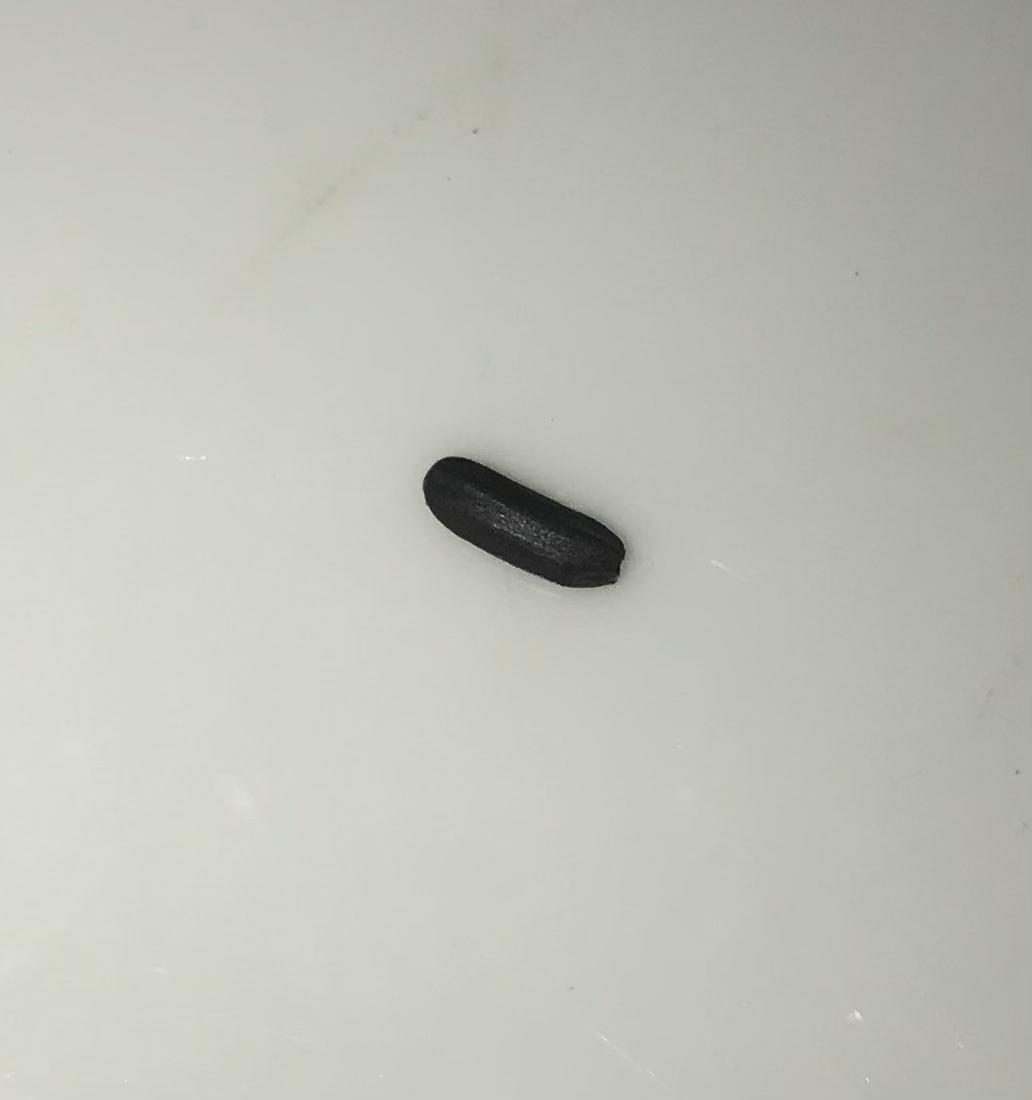Gao lut: (416, 436, 634, 609)
